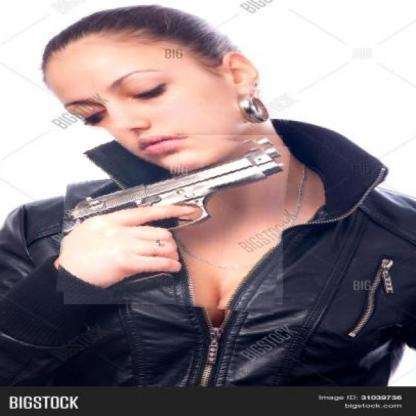handgun: (59, 129, 287, 310)
